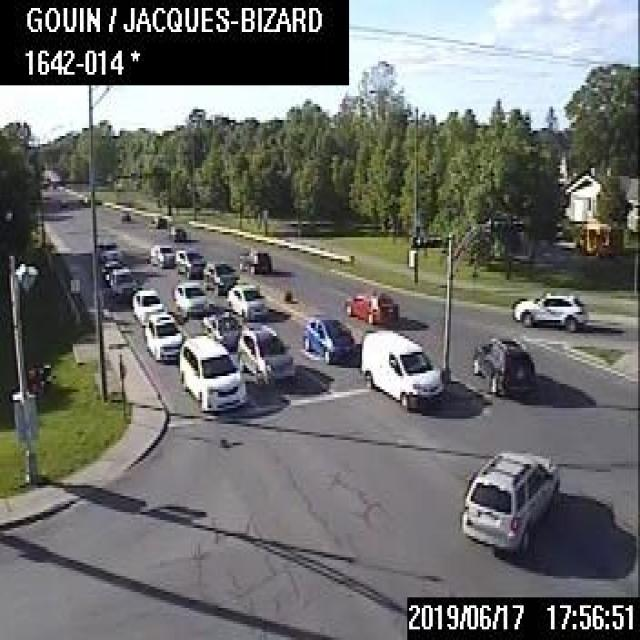bus: (574, 221, 623, 255)
vehicle: (459, 448, 560, 555), (360, 328, 444, 406), (178, 333, 245, 410), (470, 336, 534, 394), (236, 320, 292, 386), (511, 291, 582, 328), (301, 315, 354, 361), (343, 288, 398, 323), (143, 311, 180, 359), (202, 310, 238, 348), (227, 282, 266, 317), (131, 287, 165, 323), (172, 280, 206, 315), (202, 261, 235, 294), (174, 247, 204, 277), (109, 266, 136, 299), (237, 247, 270, 274), (100, 259, 123, 285), (148, 242, 174, 265), (96, 239, 117, 259), (166, 223, 185, 239), (147, 215, 165, 226), (119, 208, 129, 221)
